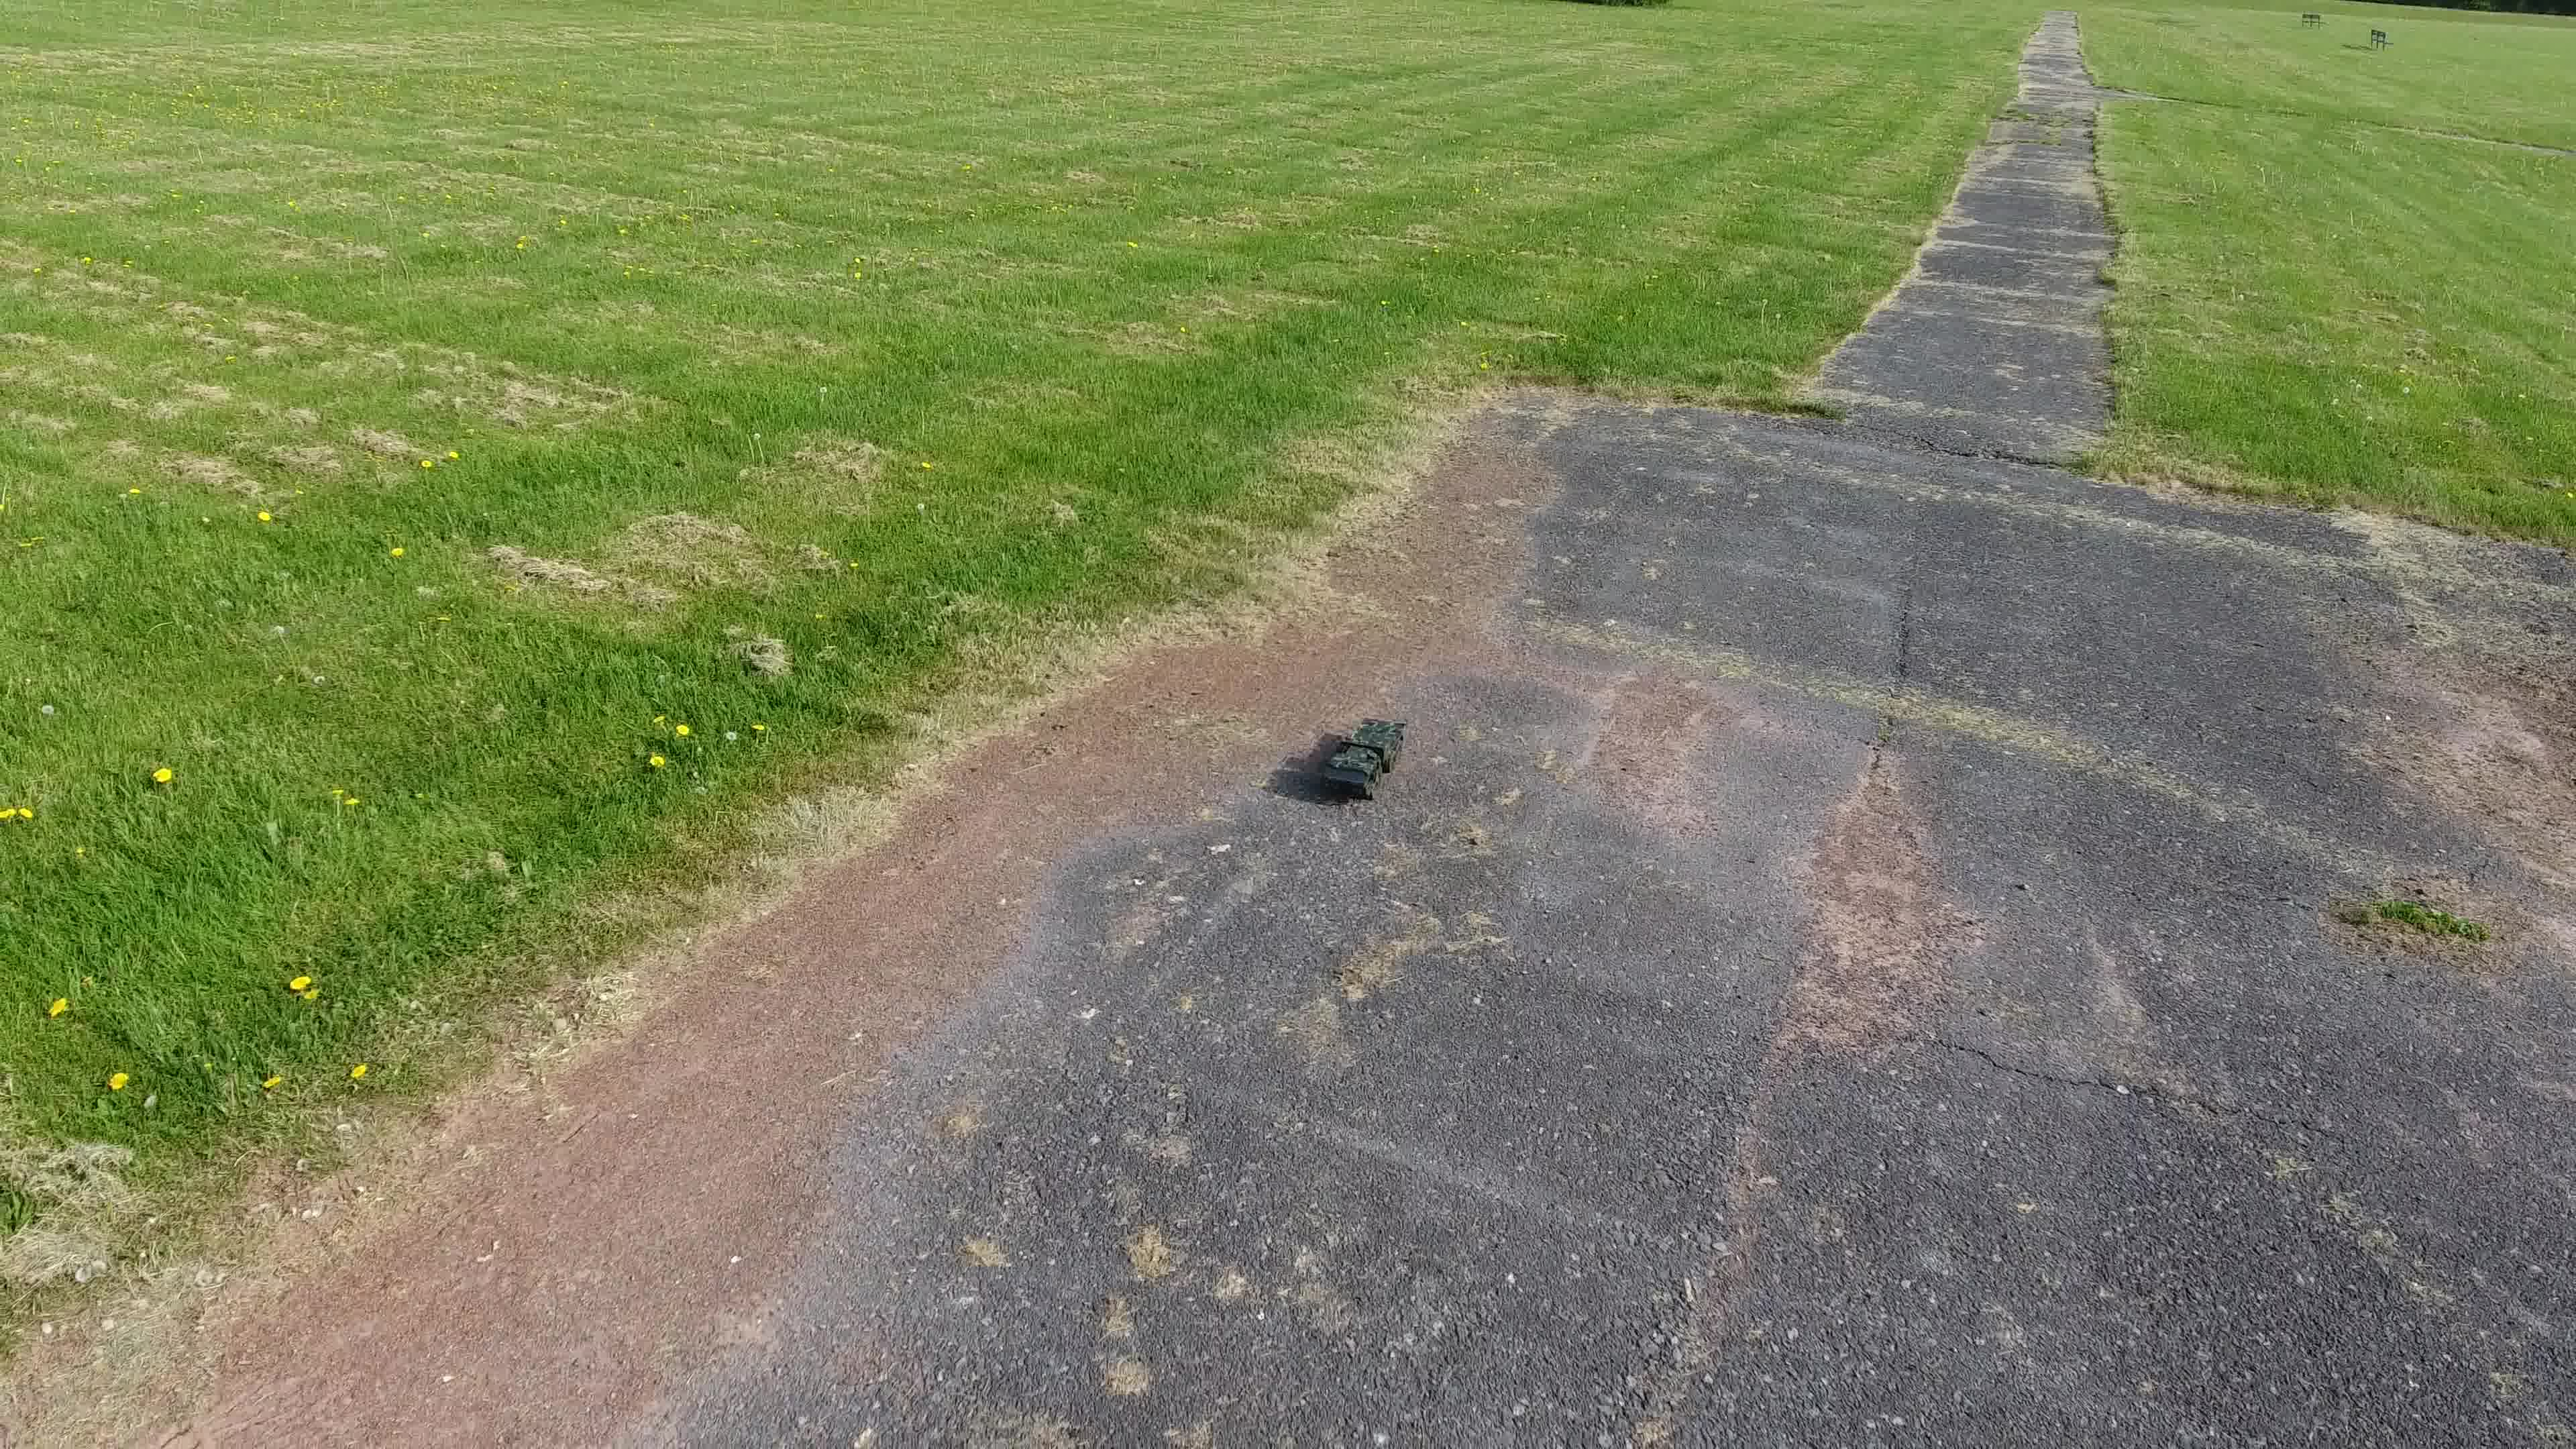transporter9_camo: (1313, 715, 1412, 803)
